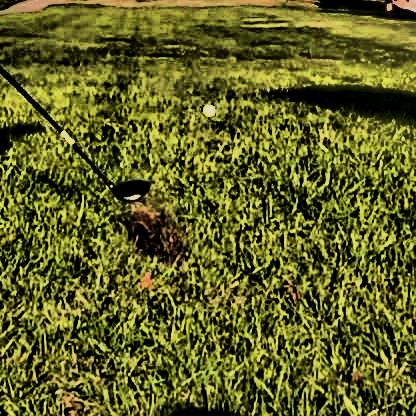golfball: (200, 99, 214, 114)
